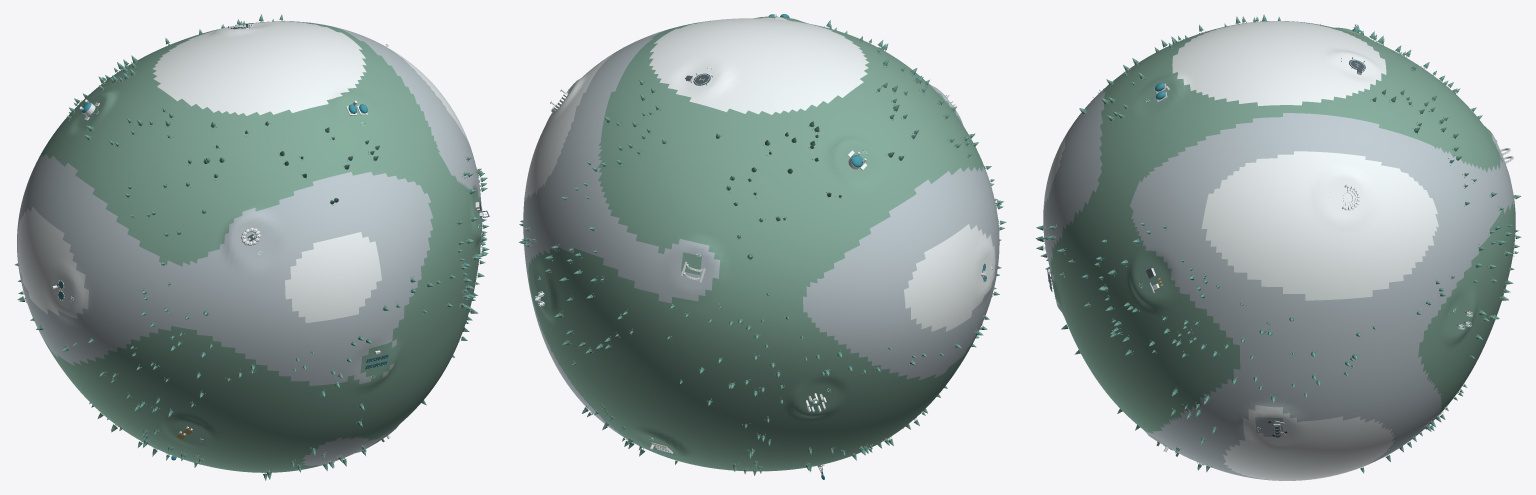
Rendered from elur_surface.glb.
3 renders of one model, left to right at view 1: azimuth 30°, elevation 25°; view 2: azimuth 150°, elevation 25°; view 3: azimuth 270°, elevation 25°, orthographic.
Visible parts, largest first — view 1: terrain_surface_4-col, terrain_surface_1-col, terrain_surface_2-col, terrain_surface_0-col, terrain_surface_3-col, grove_4, grove_1, grove_2, grove_0, grove_3; view 2: terrain_surface_5-col, terrain_surface_1-col, terrain_surface_2-col, terrain_surface_0-col, terrain_surface_3-col, grove_5, grove_2, grove_1, grove_3; view 3: terrain_surface_0-col, terrain_surface_2-col, terrain_surface_4-col, terrain_surface_5-col, terrain_surface_3-col, grove_0, grove_5, grove_2, grove_4.
Boxes of the visible parts, box(x1,y1,x2,y2) form: terrain_surface_4-col: box(193, 144, 469, 458); terrain_surface_1-col: box(17, 107, 205, 440); terrain_surface_2-col: box(77, 21, 436, 201); terrain_surface_0-col: box(395, 52, 482, 384); terrain_surface_3-col: box(118, 386, 434, 472); grove_4: box(196, 145, 474, 457); grove_1: box(14, 107, 193, 441); grove_2: box(98, 14, 369, 186); grove_0: box(452, 157, 489, 357); grove_3: box(89, 400, 426, 480); terrain_surface_5-col: box(534, 141, 823, 454); terrain_surface_1-col: box(810, 104, 999, 443); terrain_surface_2-col: box(572, 16, 943, 202); terrain_surface_0-col: box(523, 54, 611, 391); terrain_surface_3-col: box(573, 392, 899, 471); grove_5: box(532, 146, 819, 458); grove_2: box(604, 20, 944, 173); grove_1: box(821, 114, 1006, 425); grove_3: box(582, 408, 927, 475); terrain_surface_0-col: box(1122, 158, 1448, 470); terrain_surface_2-col: box(1119, 21, 1442, 175); terrain_surface_4-col: box(1043, 71, 1148, 419); terrain_surface_5-col: box(1421, 75, 1515, 423); terrain_surface_3-col: box(1126, 414, 1436, 480); grove_0: box(1121, 222, 1445, 444); grove_5: box(1430, 71, 1521, 427); grove_2: box(1123, 14, 1444, 132); grove_4: box(1035, 79, 1123, 354).
Bounding box in the file's own units: 441 × 403 × 435.
